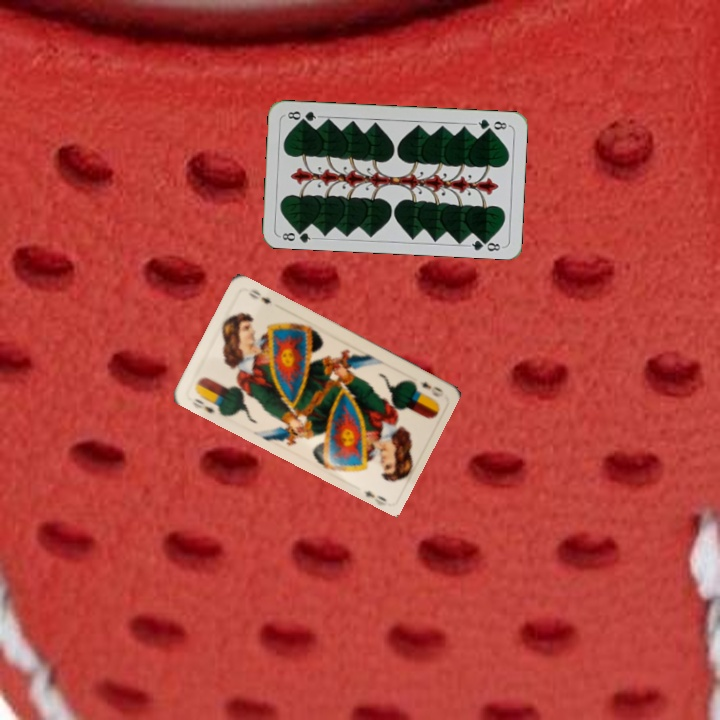EO: (187, 388, 224, 416), (415, 377, 446, 400)
G8: (276, 225, 317, 245), (471, 115, 511, 133)
